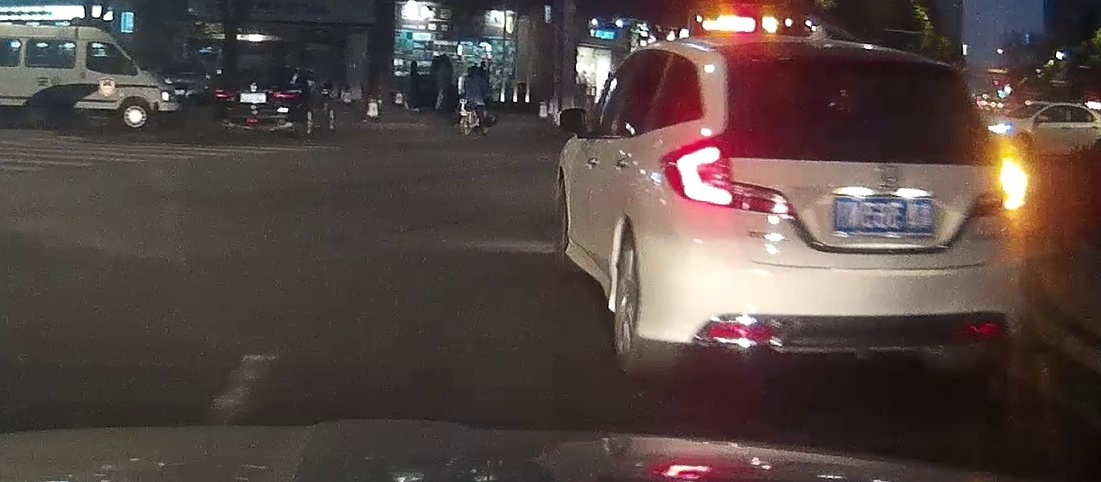L_light: (656, 137, 794, 219), (212, 89, 237, 101)
R_light: (959, 148, 1028, 218), (271, 87, 301, 102)
T_light: (826, 60, 879, 73), (247, 68, 260, 72)
night-no: (213, 65, 303, 140)
night-right: (655, 34, 1030, 379)
